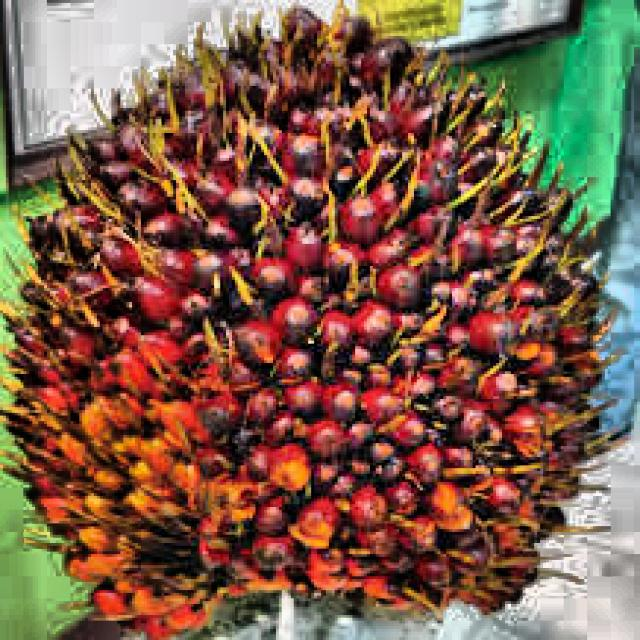FFB: (18, 12, 598, 627)
